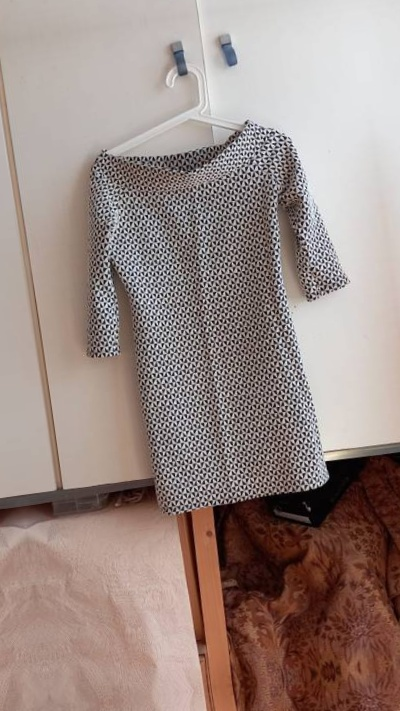Dress: (43, 111, 371, 535)
